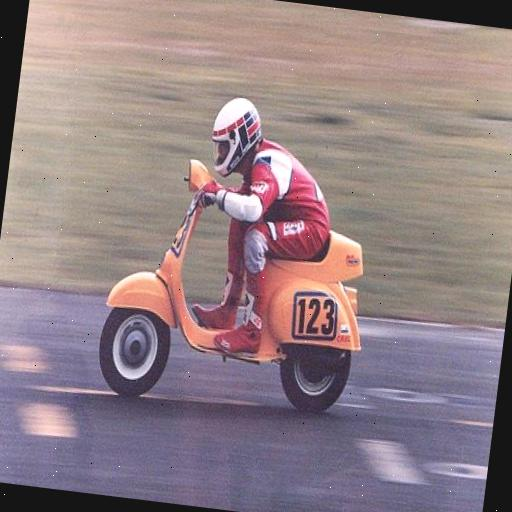helmet: (102, 69, 343, 415)
